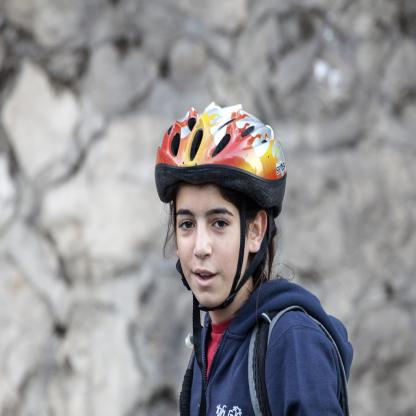Helmet: (154, 100, 288, 416)
